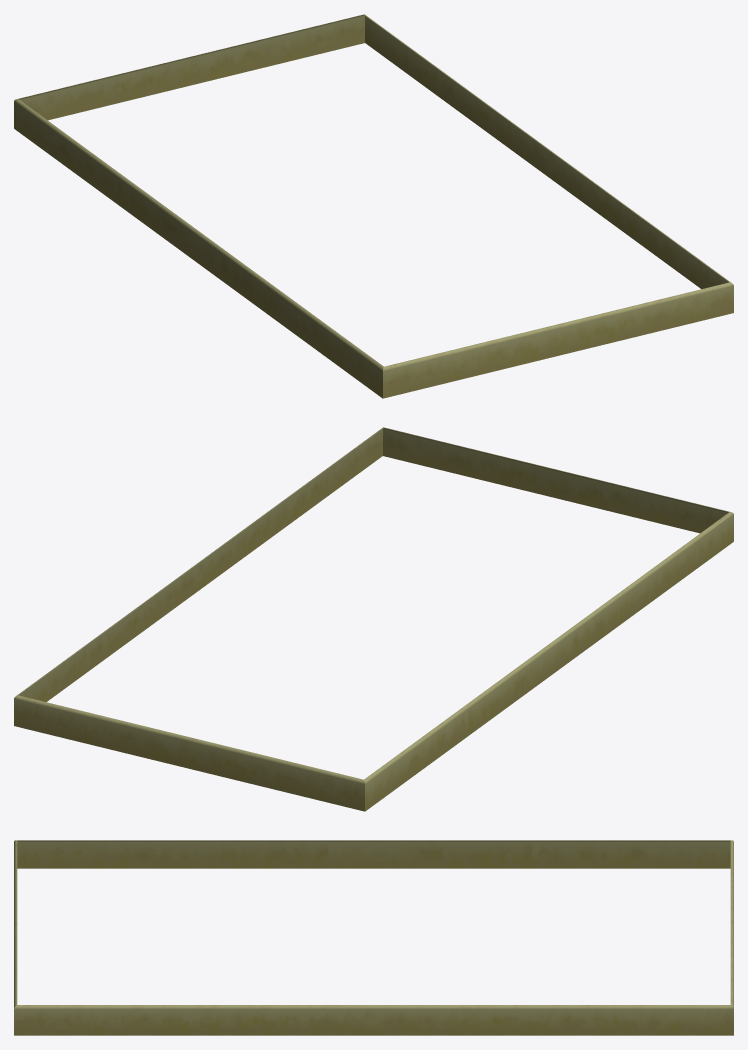
Rendered from WallFatCollider.fbx.
3 views of the same model, one above another, from view 1: azimuth 30°, elevation 25°; view 2: azimuth 150°, elevation 25°; view 3: azimuth 270°, elevation 25° (orthographic). The views are drawn at different scales.
Visible parts, largest first — view 1: WallFatCollider; view 2: WallFatCollider; view 3: WallFatCollider.
Boxes of the visible parts, <box> form: WallFatCollider: <box>14,14,733,398</box>; WallFatCollider: <box>14,427,733,811</box>; WallFatCollider: <box>14,840,733,1035</box>.
Size of the model in its own units: 305 by 25 by 555.
